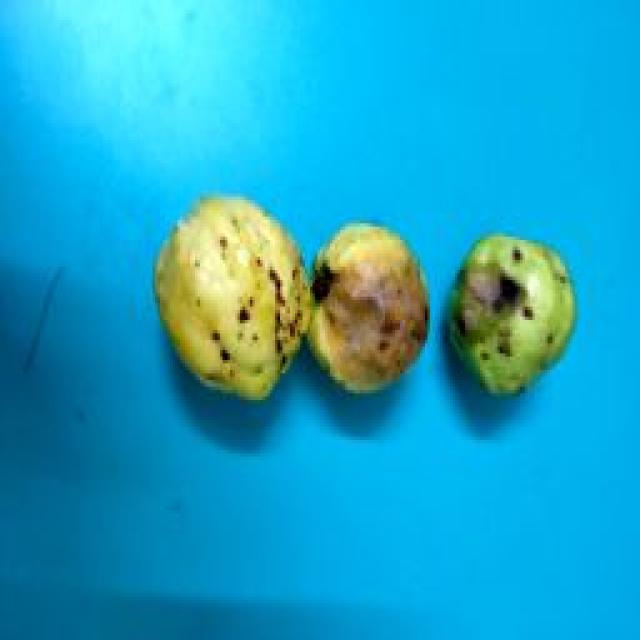Bad_Guava: (158, 198, 426, 399), (450, 235, 575, 394)
